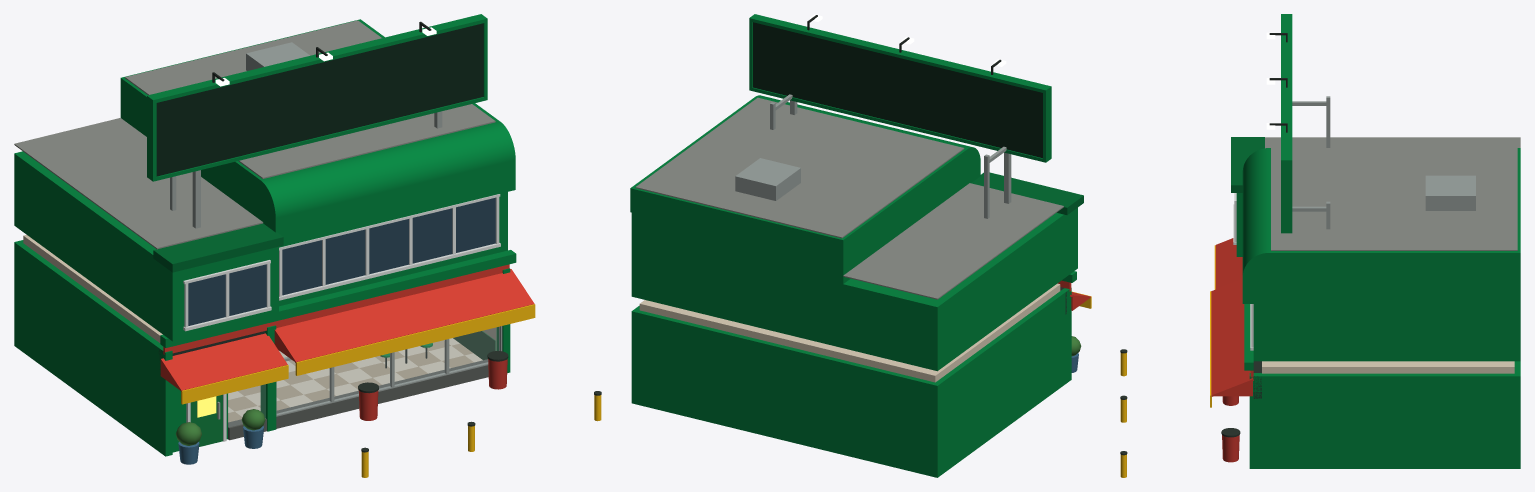
Rendered from store.glb.
3 renders of one model, left to right at view 1: azimuth 30°, elevation 25°; view 2: azimuth 150°, elevation 25°; view 3: azimuth 270°, elevation 25°, orthographic. The views are drawn at different scales.
Visible parts, largest first — view 1: Store_SubwayGreen, Store_SignBoard, Store_Roof, Store_Awning, Store_UpperGlass, Store_ShopGlass, Store_SubwayYellow, Store_WindowFrame, Store_Stone, Store_FloorTileB, Store_Steel, Store_FloorTileA (+8 smaller); view 2: Store_SubwayGreen, Store_Roof, Store_SignBoard, Store_Stucco, Store_Steel, Store_SubwayGreenDark; view 3: Store_SubwayGreen, Store_Roof, Store_Awning, Store_Stucco, Store_Steel, Store_SubwayGreenDark, Store_SubwayYellow, Store_HydrantRed, Store_DarkTrim.
Boxes of the visible parts, bbox=[...] form: Store_SubwayGreen: bbox=[14, 14, 516, 456]; Store_SignBoard: bbox=[156, 23, 483, 176]; Store_Roof: bbox=[14, 20, 495, 249]; Store_Awning: bbox=[160, 264, 534, 391]; Store_UpperGlass: bbox=[188, 197, 495, 325]; Store_ShopGlass: bbox=[228, 327, 499, 426]; Store_SubwayYellow: bbox=[181, 304, 601, 477]; Store_WindowFrame: bbox=[183, 194, 500, 441]; Store_Stone: bbox=[228, 359, 488, 440]; Store_FloorTileB: bbox=[228, 340, 473, 422]; Store_Steel: bbox=[170, 42, 502, 419]; Store_FloorTileA: bbox=[228, 338, 482, 416]; Store_SubwayGreen: bbox=[630, 14, 1077, 477]; Store_Roof: bbox=[635, 97, 1063, 299]; Store_SignBoard: bbox=[753, 22, 1042, 158]; Store_Stucco: bbox=[639, 283, 1060, 382]; Store_Steel: bbox=[735, 94, 1011, 218]; Store_SubwayGreenDark: bbox=[971, 172, 1083, 214]; Store_SubwayGreen: bbox=[1236, 14, 1520, 468]; Store_Roof: bbox=[1265, 137, 1520, 250]; Store_Awning: bbox=[1211, 238, 1253, 396]; Store_Stucco: bbox=[1262, 361, 1514, 373]; Store_Steel: bbox=[1292, 96, 1475, 229]; Store_SubwayGreenDark: bbox=[1231, 137, 1264, 192]; Store_SubwayYellow: bbox=[1120, 245, 1215, 477]; Store_HydrantRed: bbox=[1222, 396, 1239, 462]; Store_DarkTrim: bbox=[1120, 349, 1261, 455].
Size of the model in its own units: 12.83 by 11.7 by 13.47.
